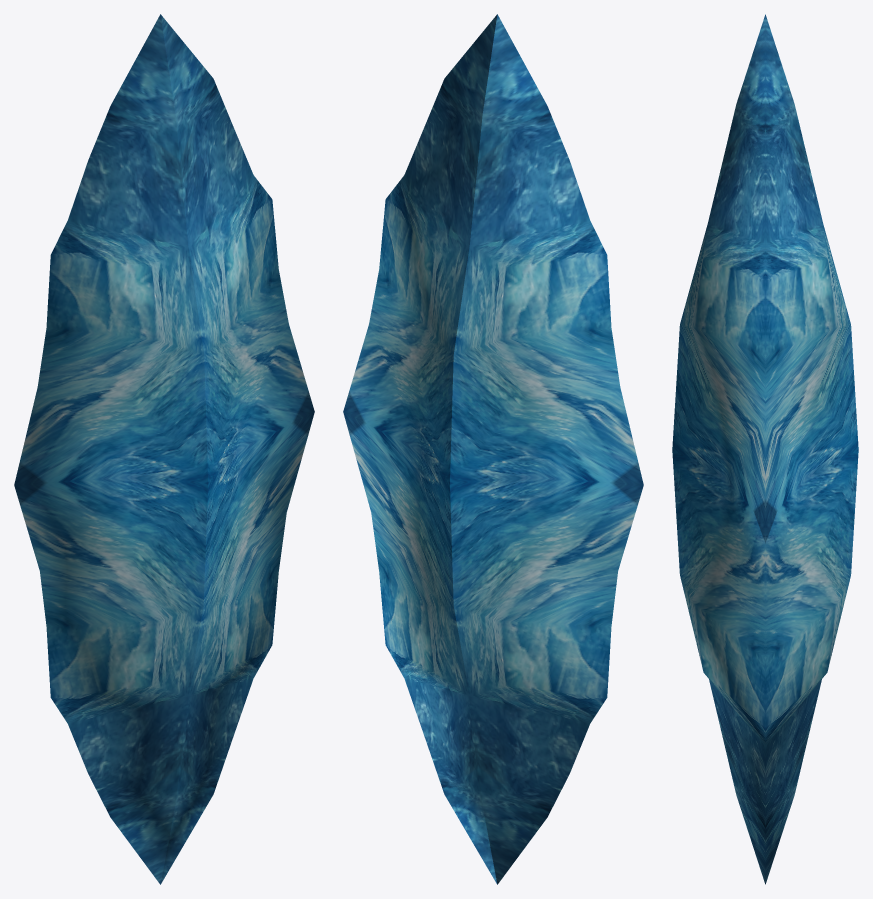
The model's file is bing.FBX.
3 views of the same model, side by side, from view 1: azimuth 30°, elevation 25°; view 2: azimuth 150°, elevation 25°; view 3: azimuth 270°, elevation 25° (orthographic).
Parts seen in each view (by area): view 1: HP2_20150728_0012:polySurface5; view 2: HP2_20150728_0012:polySurface5; view 3: HP2_20150728_0012:polySurface5.
Part boxes in pixels (x1,y1,x2,y2): HP2_20150728_0012:polySurface5: [14, 14, 314, 884]; HP2_20150728_0012:polySurface5: [343, 14, 643, 884]; HP2_20150728_0012:polySurface5: [672, 14, 858, 884].
Size of the model in its own units: 0.3006 by 0.832 by 0.1613.
